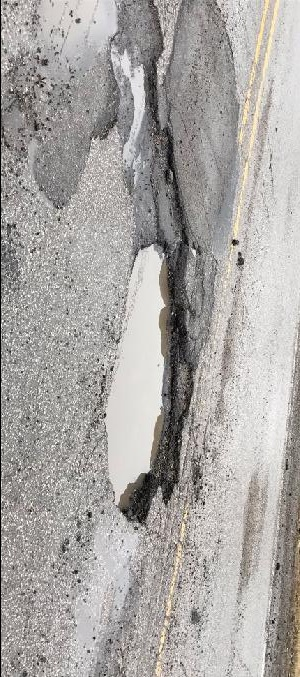pothole: (103, 234, 198, 527), (107, 0, 169, 134)
